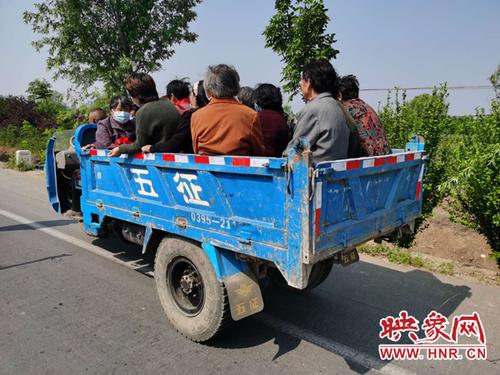driver: (67, 100, 113, 137)
overloading: (30, 55, 440, 345)
passenger: (285, 60, 358, 179), (326, 68, 406, 171), (193, 63, 260, 168), (120, 70, 185, 157), (243, 77, 294, 167), (93, 85, 132, 157), (227, 48, 259, 115), (164, 58, 197, 119)
